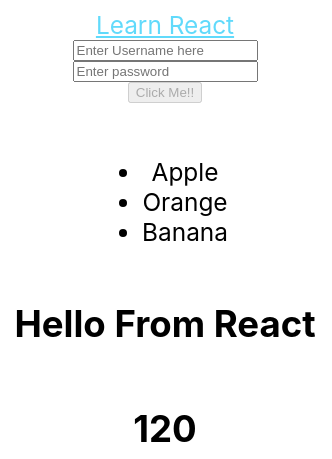
Test: loading should render on click
Type "test" into the field with test id "username" at (165, 50), box [72,40,258,61]
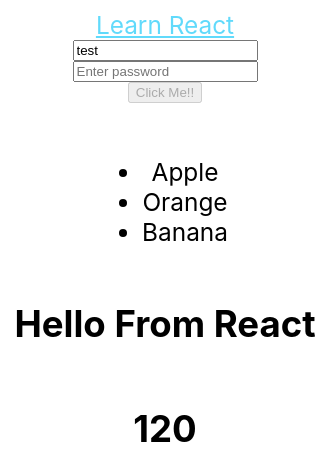
Type "test" into the password field with test id "password" at (165, 72), box [72,61,258,82]
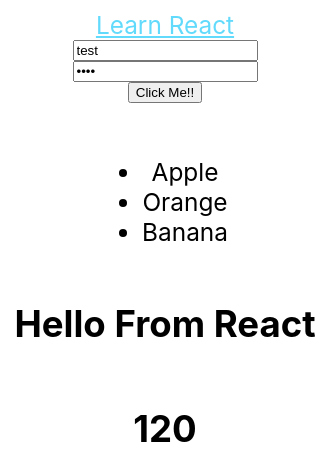
Click the button with test id "mybutton1" at (165, 92), box [128,82,202,103]
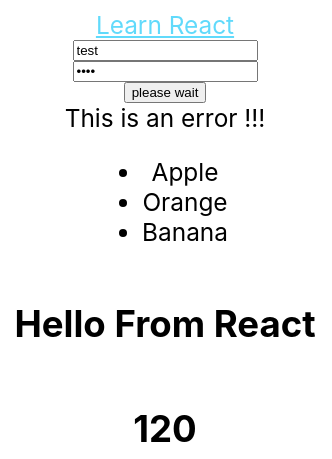
expect the button with test id "mybutton1" reads "please wait": met, box [124,82,206,103]
